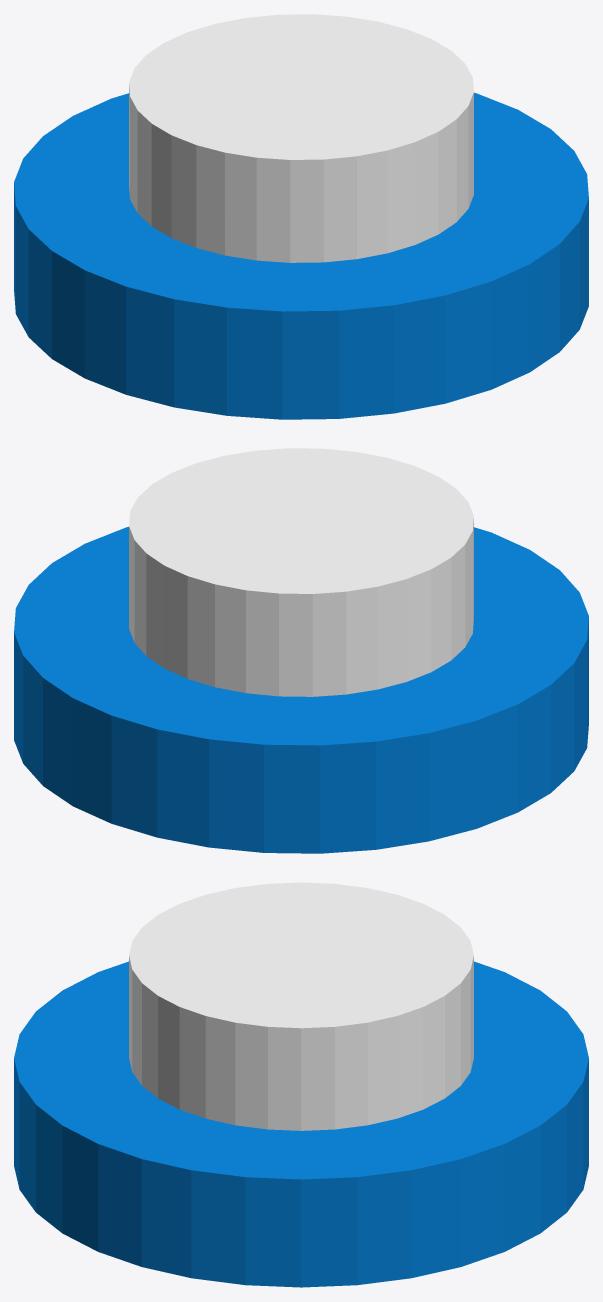
The model's file is disc_proj_temp.glb.
3 renders of one model, top to bottom at view 1: azimuth 30°, elevation 25°; view 2: azimuth 150°, elevation 25°; view 3: azimuth 270°, elevation 25°, orthographic.
Visible parts, largest first — view 1: Cylinder, Cylinder.001; view 2: Cylinder, Cylinder.001; view 3: Cylinder, Cylinder.001.
Part boxes in pixels (x1,y1,x2,y2): Cylinder: (14,92,588,419); Cylinder.001: (129,14,473,262); Cylinder: (14,526,588,853); Cylinder.001: (129,448,473,696); Cylinder: (14,961,588,1287); Cylinder.001: (129,882,473,1130).
Bounding box in the file's own units: 2 × 0.8086 × 2.
